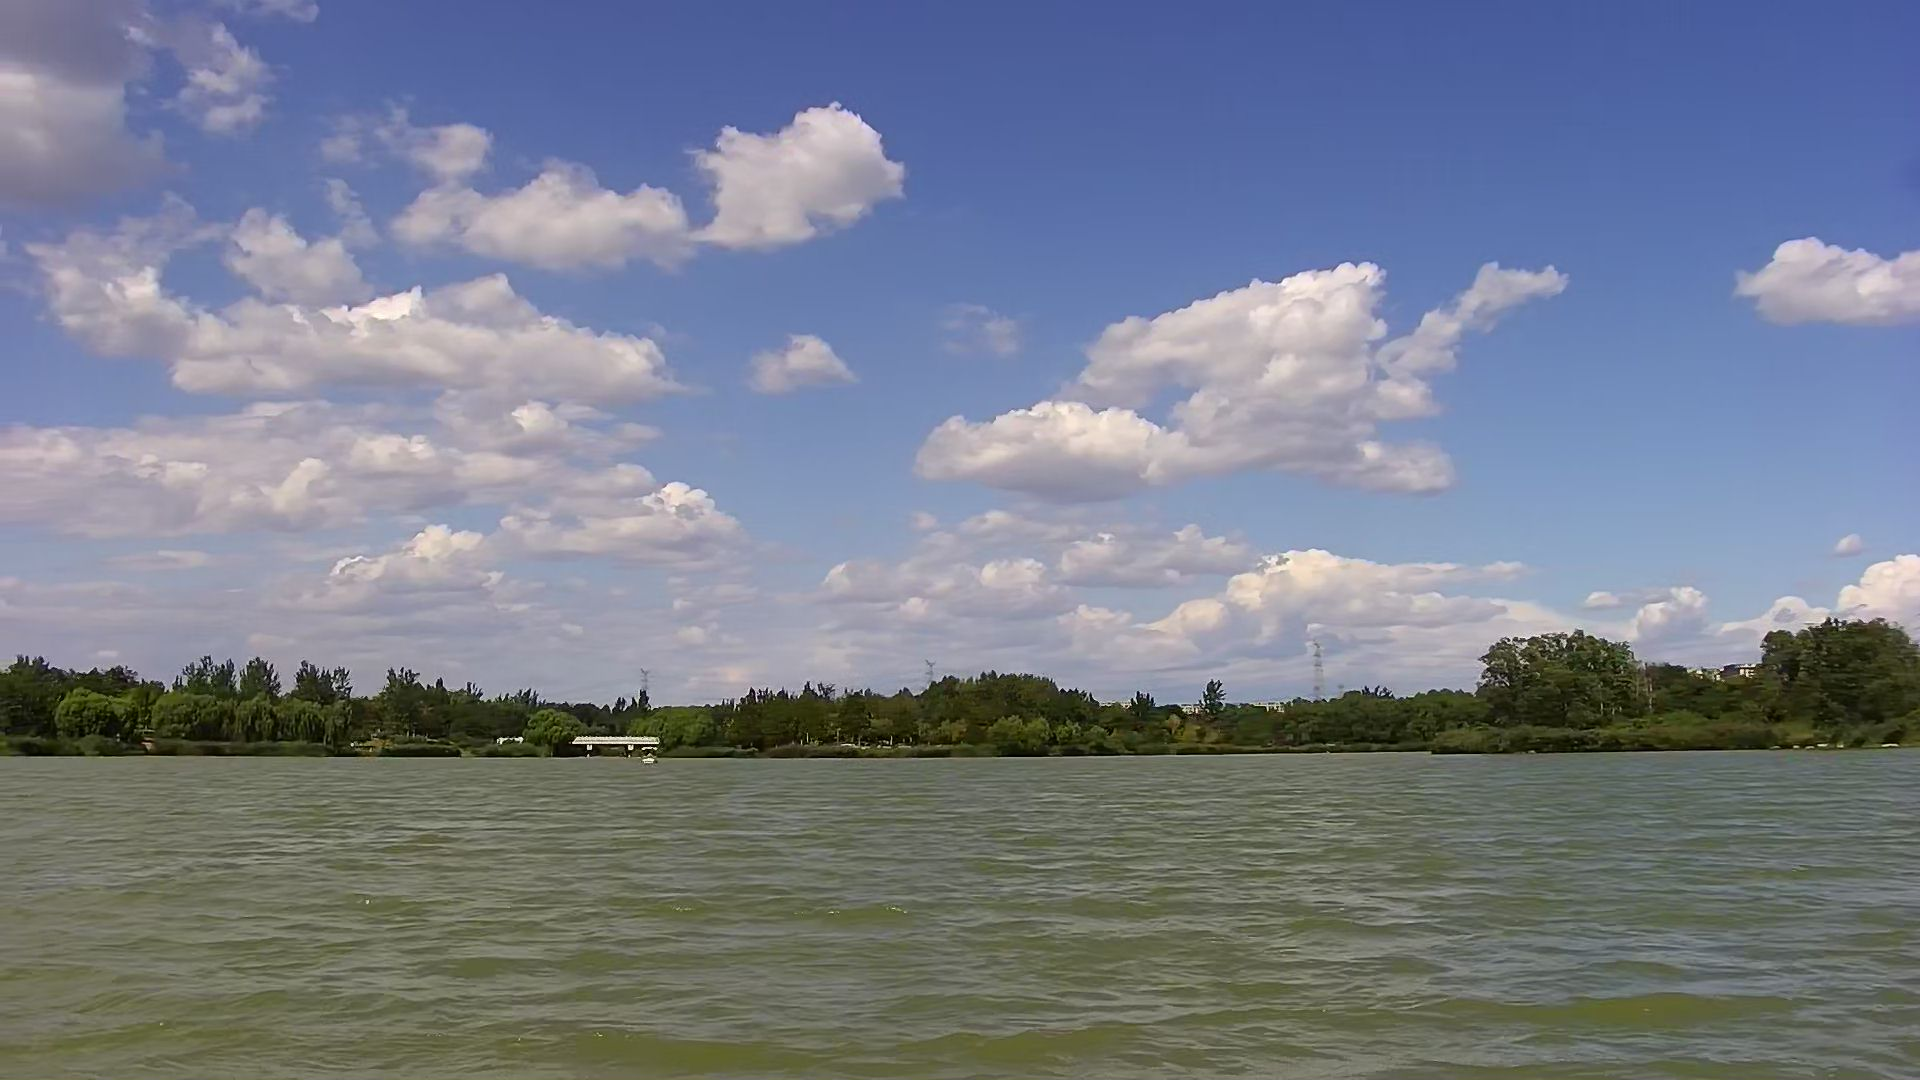bridge: (578, 735, 667, 756)
